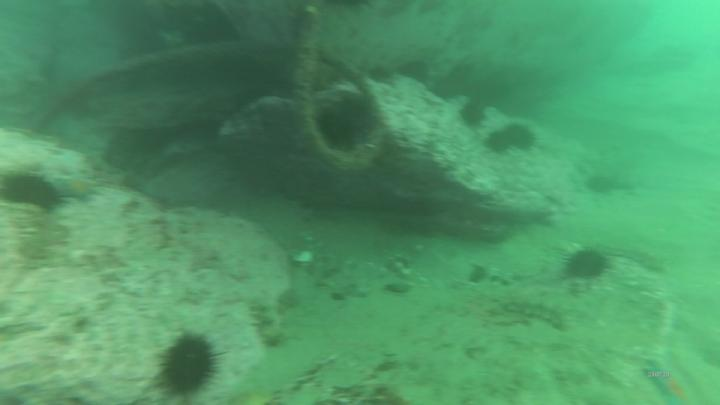echinus: (160, 332, 218, 397), (2, 169, 68, 215), (565, 249, 614, 285), (456, 99, 489, 130), (509, 121, 540, 152), (483, 126, 514, 155)
holothurian: (499, 299, 572, 334), (250, 295, 282, 349)
starfish: (645, 358, 692, 405), (57, 174, 101, 205)
